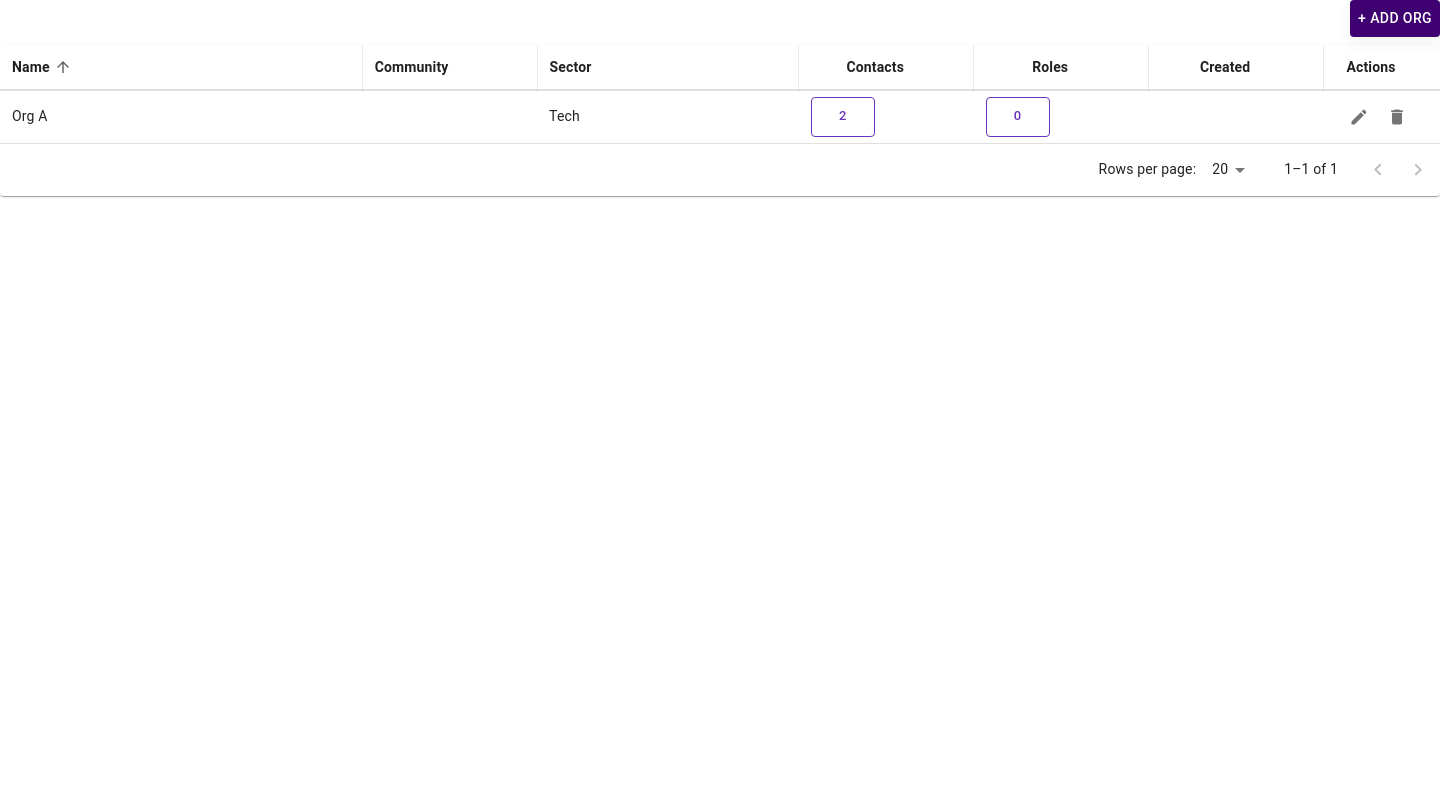
Test: OrganisationsTable delete flow › deletes organisation after confirmation
Expected: the text "Org A" is shown, left=12, top=108, right=48, bottom=124
Note: click the delete IconButton by accessible name
Step 1. Click the button named "Delete organisation 1" → (1397, 116), box left=1382, top=102, right=1412, bottom=132
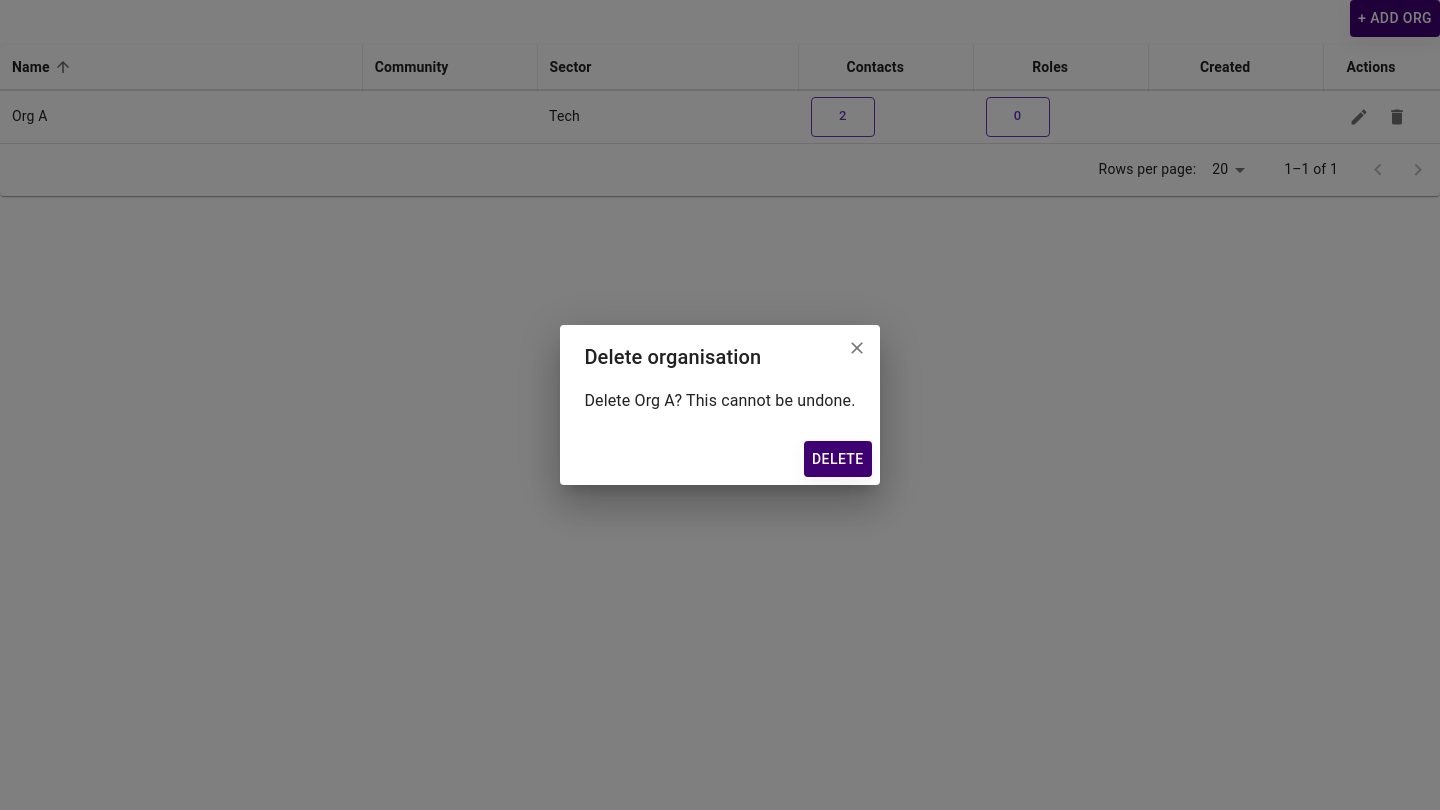
Expected: the heading "Delete organisation" is shown, left=584, top=345, right=761, bottom=369
Step 2. Click the button "Delete" → (838, 459), box left=804, top=441, right=872, bottom=477
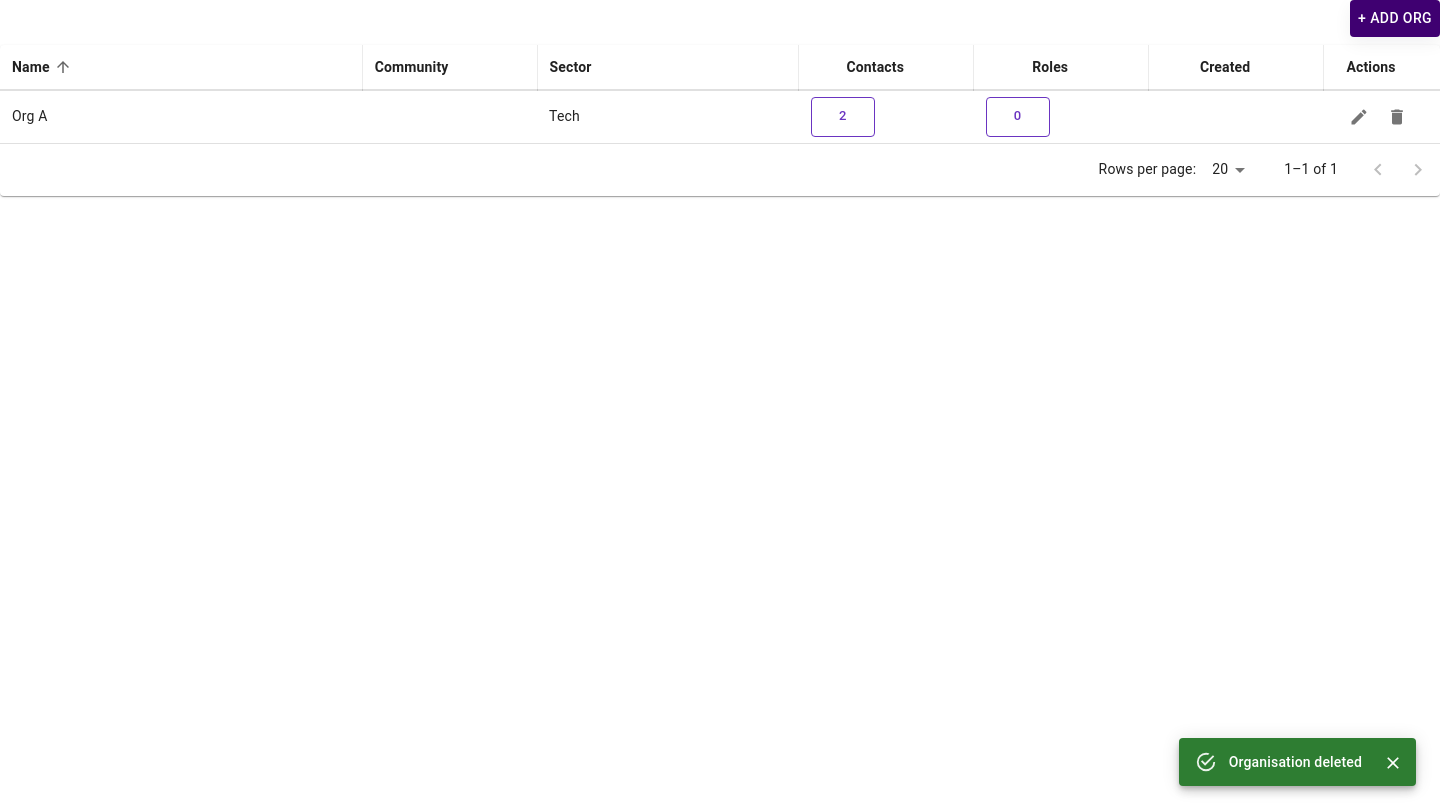
Expected: the text "Organisation deleted" is shown, left=1229, top=754, right=1362, bottom=770
